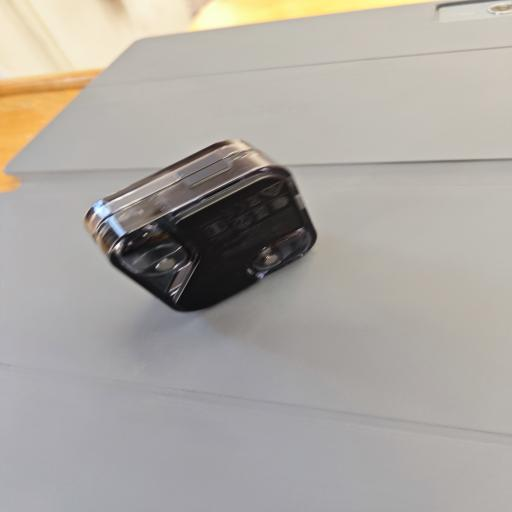Headphones: (80, 134, 323, 318)
